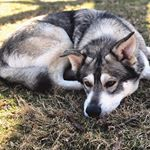puppy: (1, 7, 150, 120)
